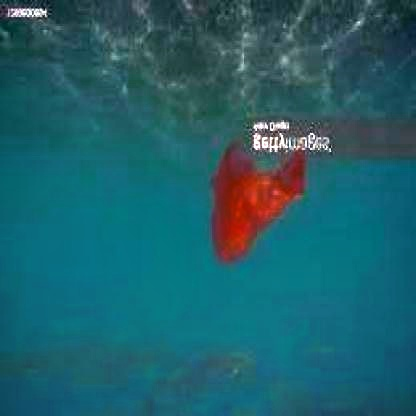pbag: (209, 137, 308, 266)
